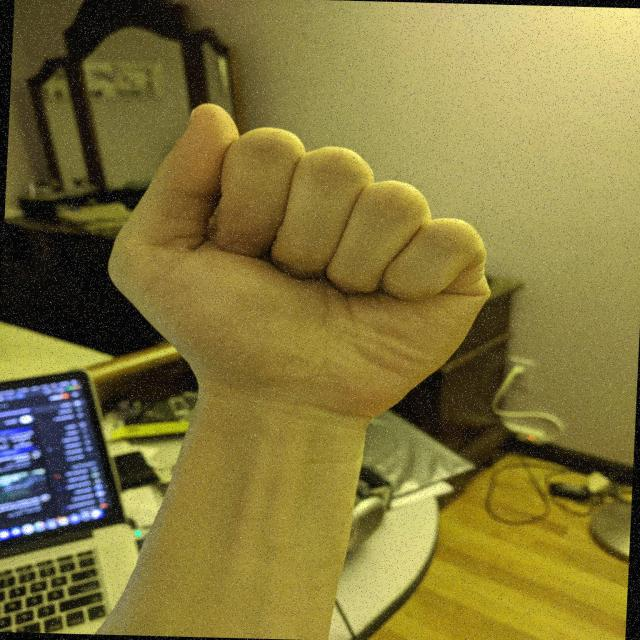A: (86, 93, 515, 438)
